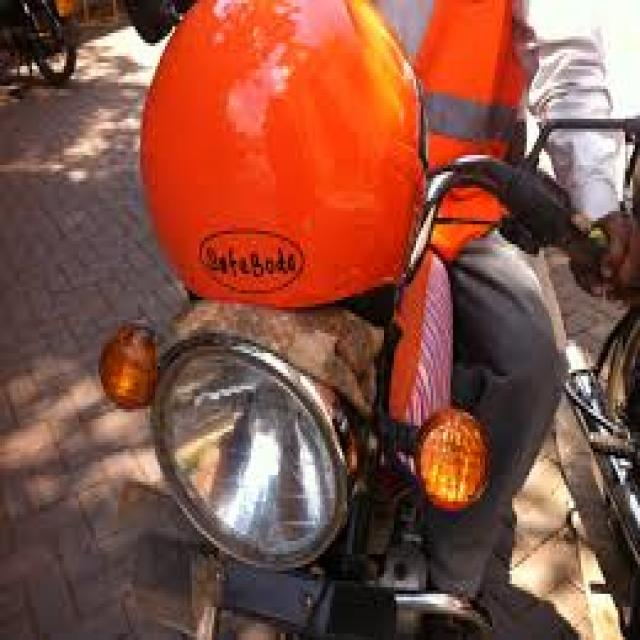bodaboda: (78, 0, 631, 640)
